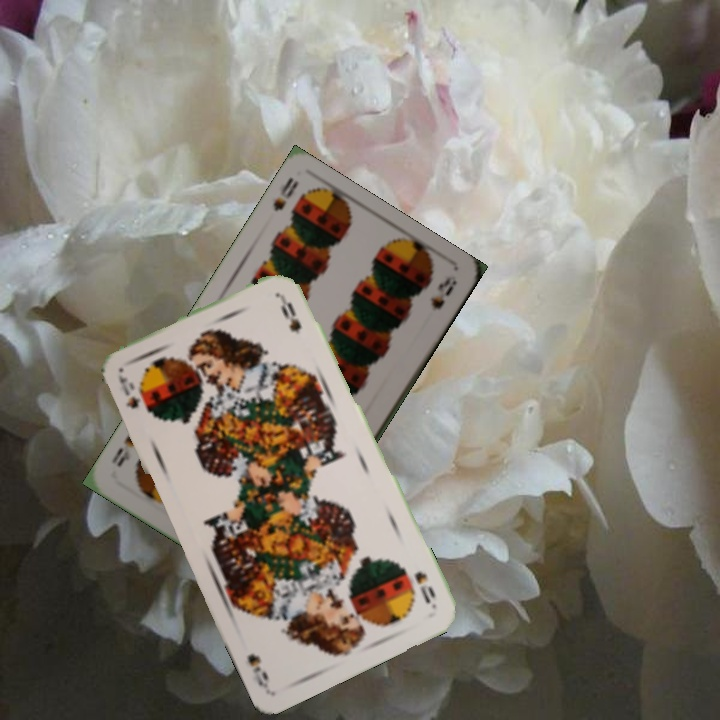S8: (269, 173, 301, 214)
SO: (410, 567, 439, 609), (114, 372, 143, 412)
